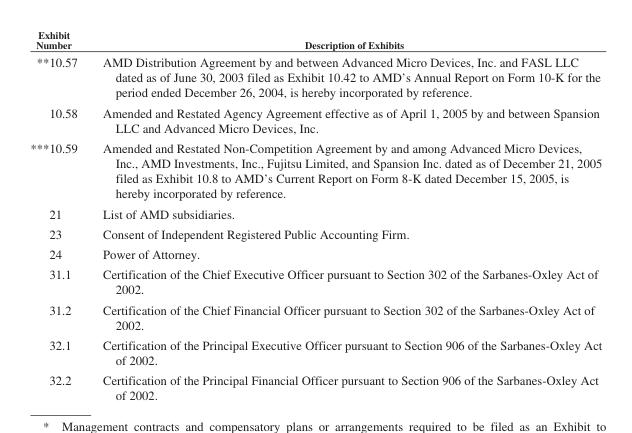table: (29, 28, 601, 402)
table column: (89, 28, 601, 402), (29, 28, 89, 402)
table column header: (29, 28, 601, 52)
table row: (29, 137, 601, 203), (29, 52, 601, 102), (29, 263, 601, 299), (29, 102, 601, 137), (29, 299, 601, 334), (29, 334, 601, 369), (29, 369, 601, 402), (29, 28, 601, 52), (29, 203, 601, 223), (29, 223, 601, 243), (29, 243, 601, 263)
